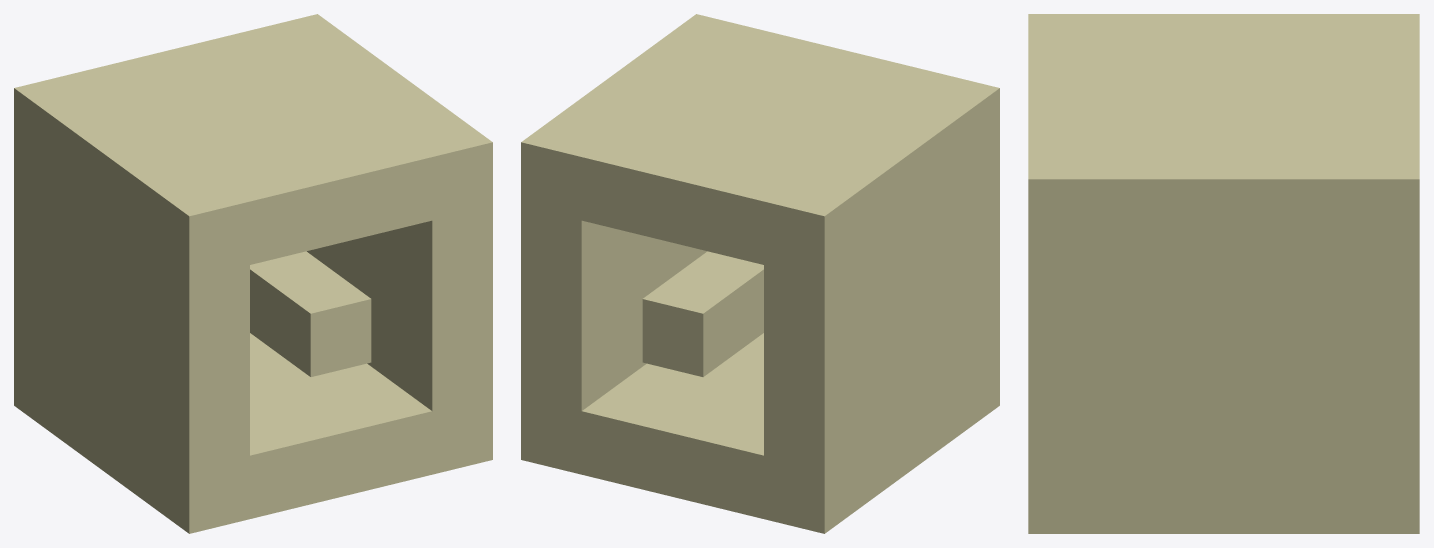
The model's file is polygon.glb.
3 views of the same model, side by side, from view 1: azimuth 30°, elevation 25°; view 2: azimuth 150°, elevation 25°; view 3: azimuth 270°, elevation 25° (orthographic). The views are drawn at different scales.
Visible parts, largest first — view 1: geometry_0; view 2: geometry_0; view 3: geometry_0.
Boxes of the visible parts, <box> form: geometry_0: <box>14,14,492,533</box>; geometry_0: <box>521,14,999,533</box>; geometry_0: <box>1028,14,1419,533</box>.
Bounding box in the file's own units: 10 × 10 × 10.
